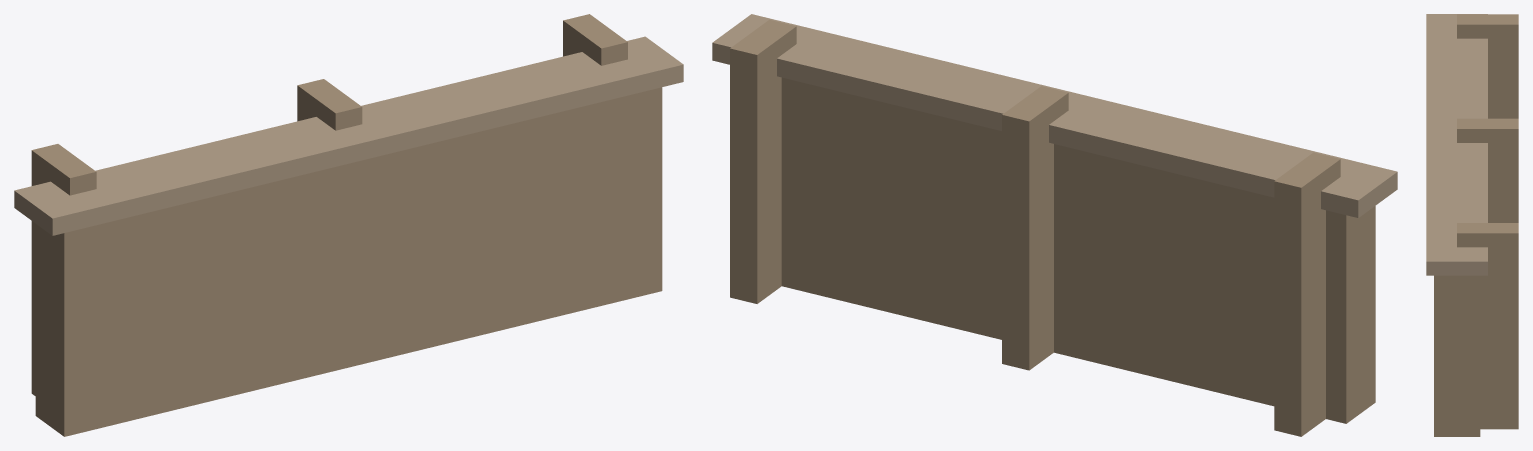
The model's file is bulkhead_section.glb.
3 views of the same model, side by side, from view 1: azimuth 30°, elevation 25°; view 2: azimuth 150°, elevation 25°; view 3: azimuth 270°, elevation 25° (orthographic). The views are drawn at different scales.
Visible parts, largest first — view 1: BulkheadSection; view 2: BulkheadSection; view 3: BulkheadSection.
Part boxes in pixels (x1=…): BulkheadSection: x1=14, y1=14, x2=683, y2=436; BulkheadSection: x1=712, y1=14, x2=1397, y2=436; BulkheadSection: x1=1426, y1=14, x2=1518, y2=436.
Bounding box in the file's own units: 1.9 × 0.7 × 0.3.
